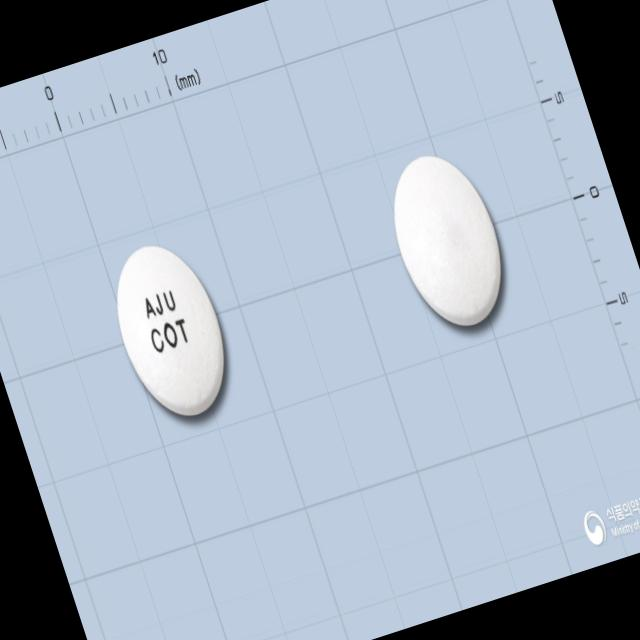Croxacin: (97, 230, 245, 430)
